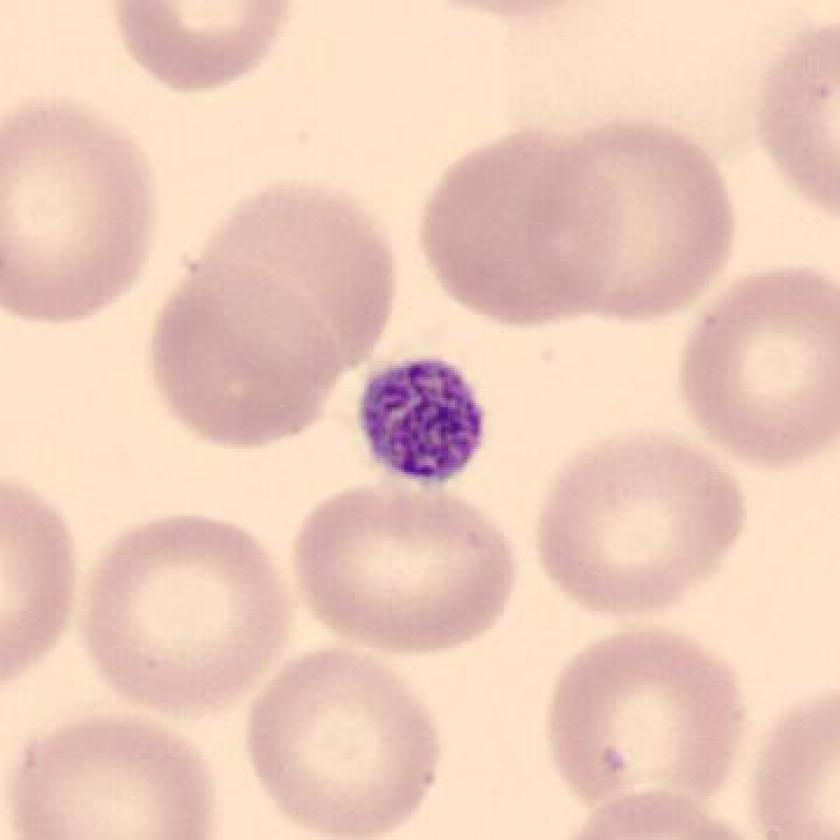platelets: (356, 353, 491, 492)
